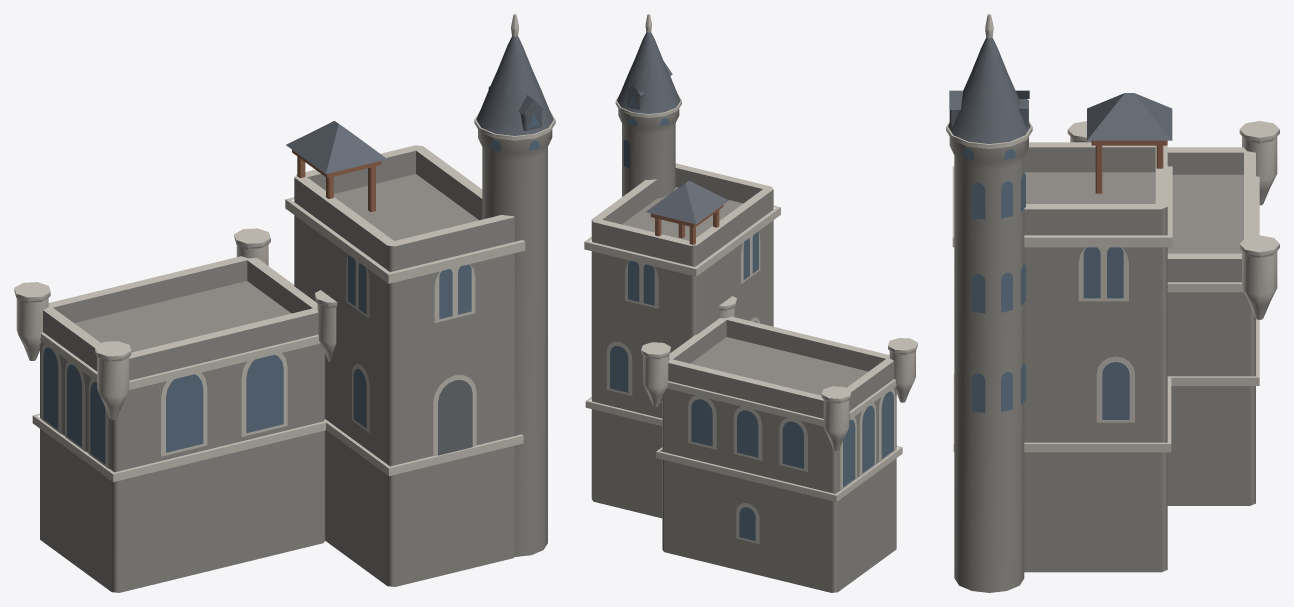
Rendered from nyc-belvedere-castle.glb.
The picture shows the model from 3 angles, left to right: view 1: azimuth 30°, elevation 25°; view 2: azimuth 150°, elevation 25°; view 3: azimuth 270°, elevation 25°; orthographic projection. The views are drawn at different scales.
Visible parts, largest first — view 1: Belvedere Castle; view 2: Belvedere Castle; view 3: Belvedere Castle.
Part boxes in pixels (x1,y1,x2,y2): Belvedere Castle: (14,14,555,592); Belvedere Castle: (584,14,917,592); Belvedere Castle: (946,14,1279,592).
Size of the model in its own units: 16.45 by 20.4 by 10.95.
